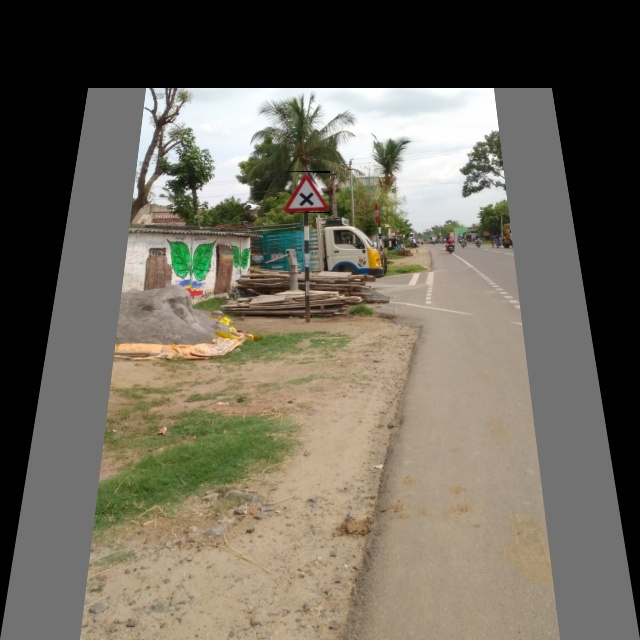Cross_Road: (281, 171, 330, 213)
